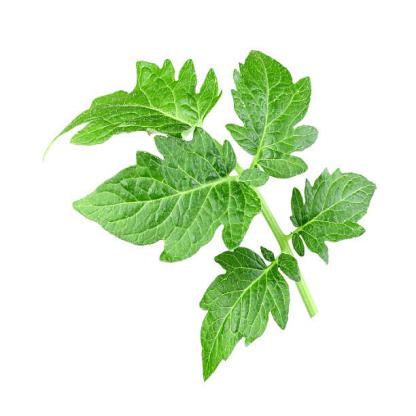Tomato leaf: (71, 128, 262, 280), (53, 31, 235, 169), (189, 227, 300, 391), (221, 29, 314, 197), (288, 165, 383, 272)
